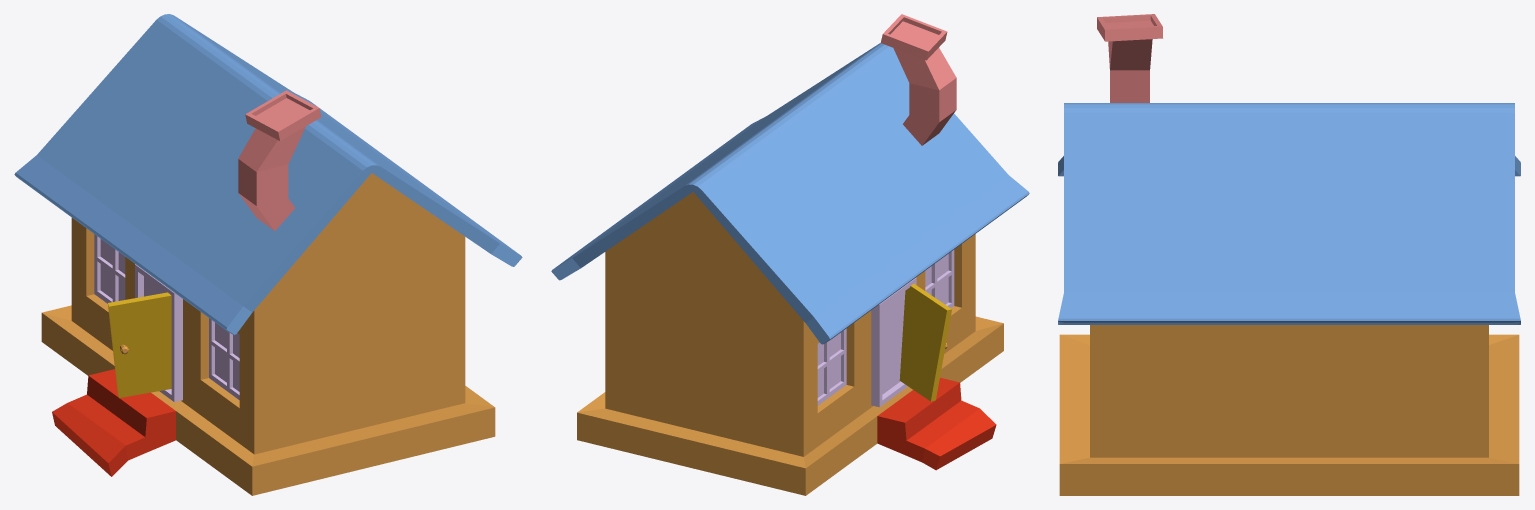
Rendered from housecolored.fbx.
3 views of the same model, side by side, from view 1: azimuth 30°, elevation 25°; view 2: azimuth 150°, elevation 25°; view 3: azimuth 270°, elevation 25° (orthographic). The views are drawn at different scales.
Parts seen in each view (by area): view 1: Housewalls, Roof, Housewalls.002, Chimey, door, windowboarders, doorborder; view 2: Housewalls, Roof, Housewalls.002, Chimey, door, doorborder, windowboarders; view 3: Roof, Housewalls, Chimey.
Part boxes in pixels (<box>): Housewalls: <box>41,173,495,495</box>; Roof: <box>14,14,522,334</box>; Housewalls.002: <box>52,369,175,476</box>; Chimey: <box>238,90,321,230</box>; door: <box>108,292,171,397</box>; windowboarders: <box>94,234,239,399</box>; doorborder: <box>135,264,182,402</box>; Housewalls: <box>577,192,1003,495</box>; Roof: <box>551,43,1029,344</box>; Housewalls.002: <box>877,377,996,470</box>; Chimey: <box>880,14,956,145</box>; door: <box>899,284,951,401</box>; doorborder: <box>871,277,916,407</box>; windowboarders: <box>817,250,954,405</box>; Roof: <box>1058,103,1520,324</box>; Housewalls: <box>1059,325,1519,495</box>; Chimey: <box>1097,14,1163,102</box>.
Size of the model in its own units: 1280 by 1351 by 1393.
